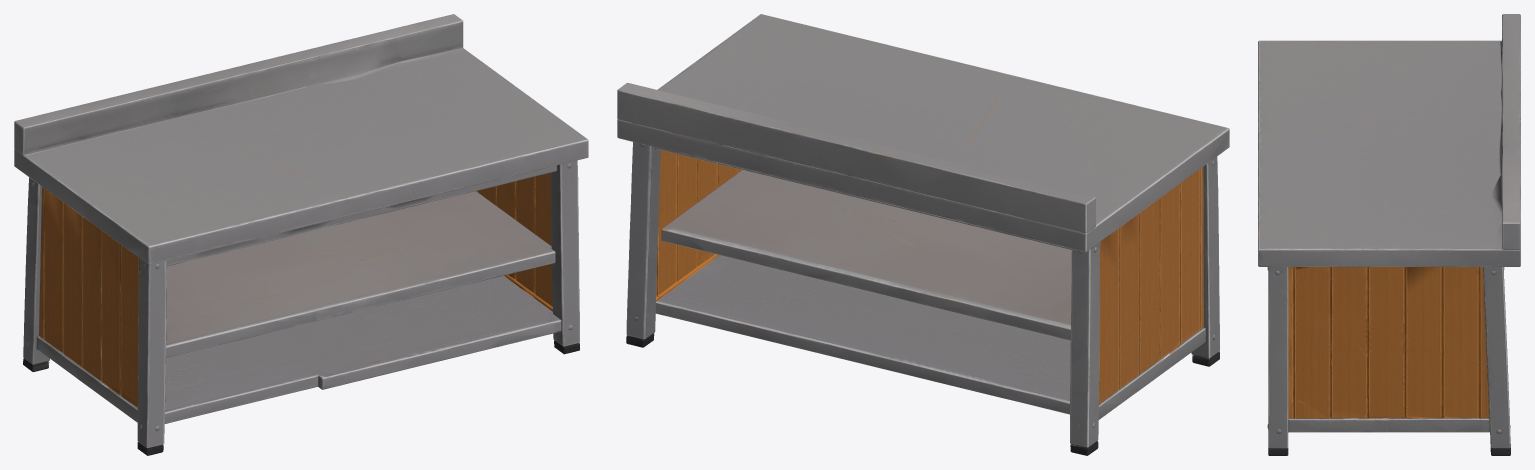
File: Meshy_AI_Stainless_Steel_Workbench_20261011_texture.fbx
3 views of the same model, side by side, from view 1: azimuth 30°, elevation 25°; view 2: azimuth 150°, elevation 25°; view 3: azimuth 270°, elevation 25° (orthographic). The views are drawn at different scales.
Parts seen in each view (by area): view 1: Mesh_0; view 2: Mesh_0; view 3: Mesh_0.
Part boxes in pixels (left/top/right/bottom): Mesh_0: left=14, top=14, right=588, bottom=455; Mesh_0: left=617, top=14, right=1229, bottom=455; Mesh_0: left=1258, top=14, right=1520, bottom=455.
Size of the model in its own units: 190 by 99.77 by 101.
1 material, 1 textured.
